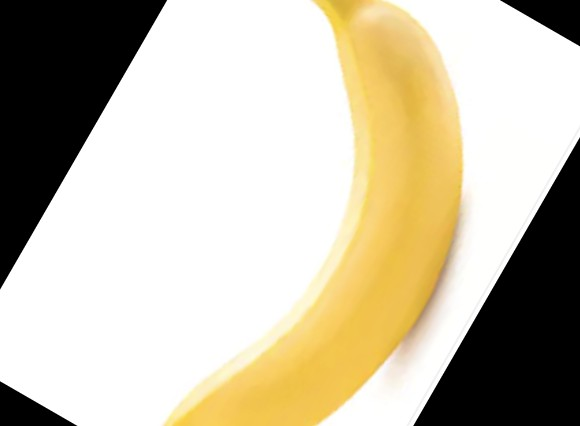fresh_banana: (161, 1, 461, 426)
